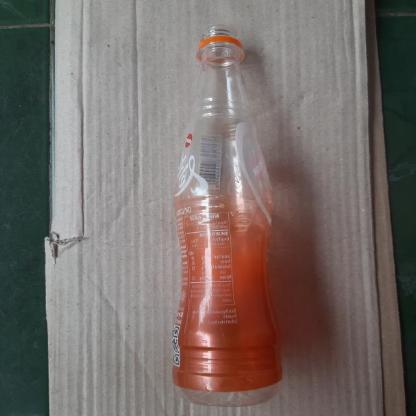Plastic Bottle: (169, 26, 284, 408)
